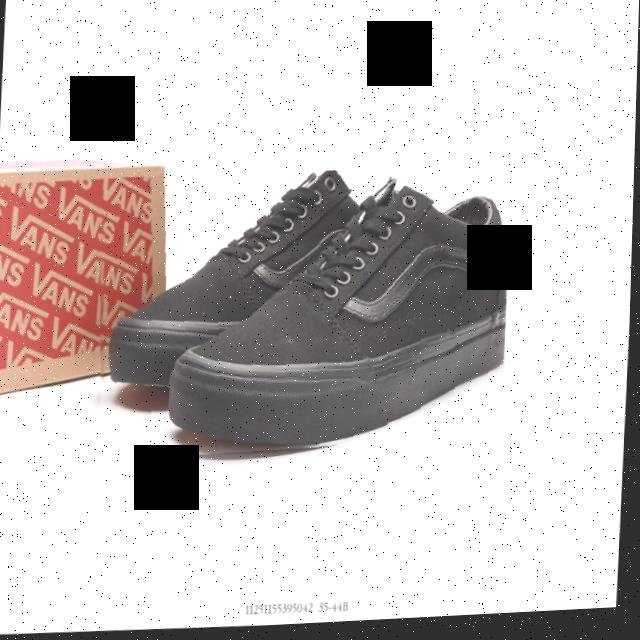shoe: (89, 162, 514, 469), (155, 180, 523, 466)
